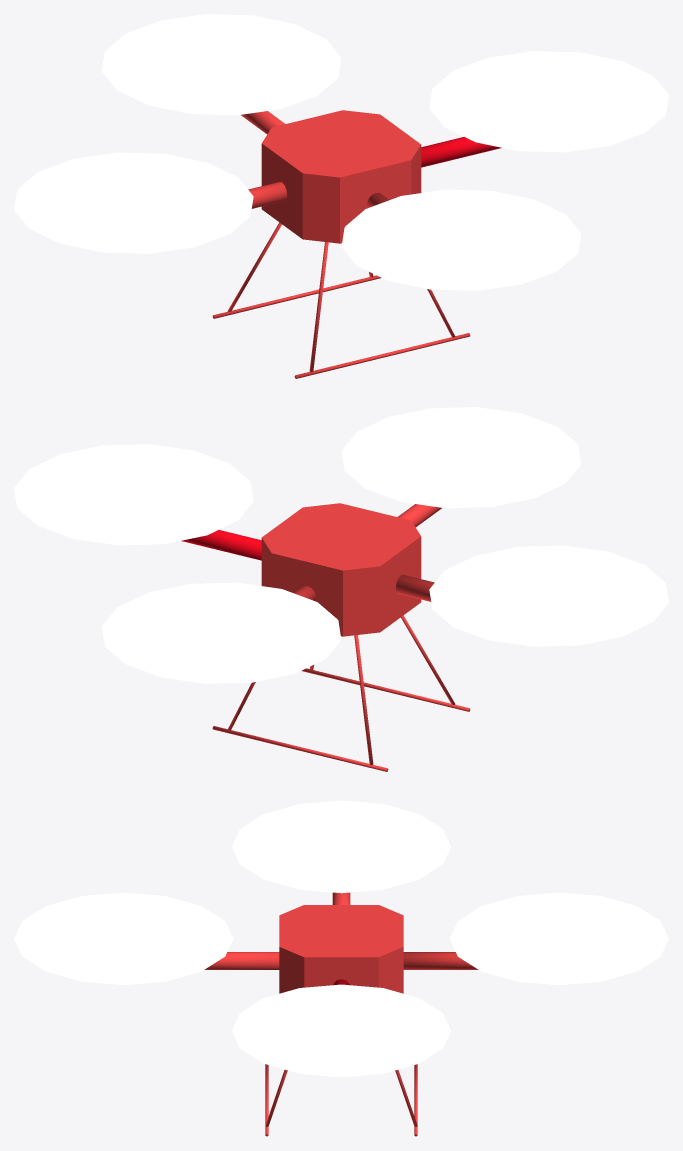
File: quadrotor_base.dae
The picture shows the model from 3 angles, top to bottom: view 1: azimuth 30°, elevation 25°; view 2: azimuth 150°, elevation 25°; view 3: azimuth 270°, elevation 25°; orthographic projection. The views are drawn at different scales.
Visible parts, largest first — view 1: MainBody_002; view 2: MainBody_002; view 3: MainBody_002.
Boxes of the visible parts, x1,y1,x2,y2 form: MainBody_002: [14, 14, 668, 378]; MainBody_002: [14, 407, 668, 771]; MainBody_002: [14, 800, 668, 1136].
Bounding box in the file's own units: 0.7911 × 0.7911 × 0.2225.
